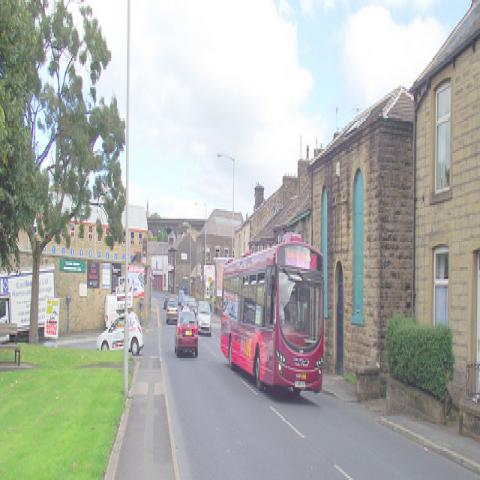bus: (220, 232, 328, 389)
car: (96, 310, 144, 359), (174, 308, 198, 356), (197, 300, 212, 336), (167, 298, 178, 324), (186, 298, 198, 320), (178, 290, 184, 306)
truck: (0, 266, 55, 343)
